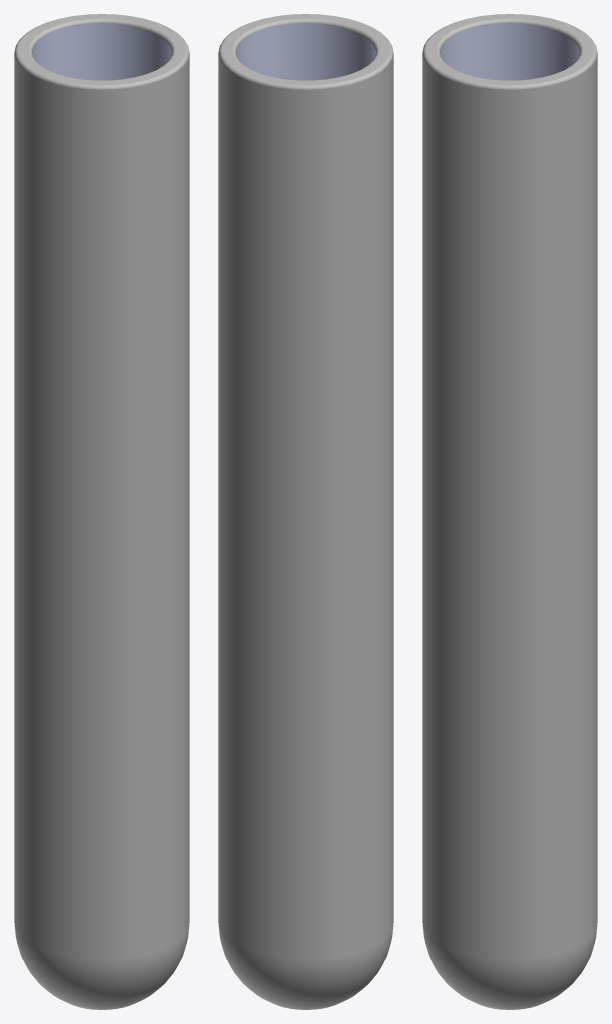
Rendered from testtube1.fbx.
3 renders of one model, left to right at view 1: azimuth 30°, elevation 25°; view 2: azimuth 150°, elevation 25°; view 3: azimuth 270°, elevation 25°, orthographic.
Visible parts, largest first — view 1: color, color-2; view 2: color, color-2; view 3: color, color-2.
Part boxes in pixels (x1,y1,x2,y2): color: [14, 14, 189, 1009]; color-2: [32, 23, 171, 80]; color: [218, 14, 393, 1009]; color-2: [236, 23, 375, 80]; color: [422, 14, 597, 1009]; color-2: [440, 23, 579, 80].
Size of the model in its own units: 1.25 by 7.5 by 1.25.
